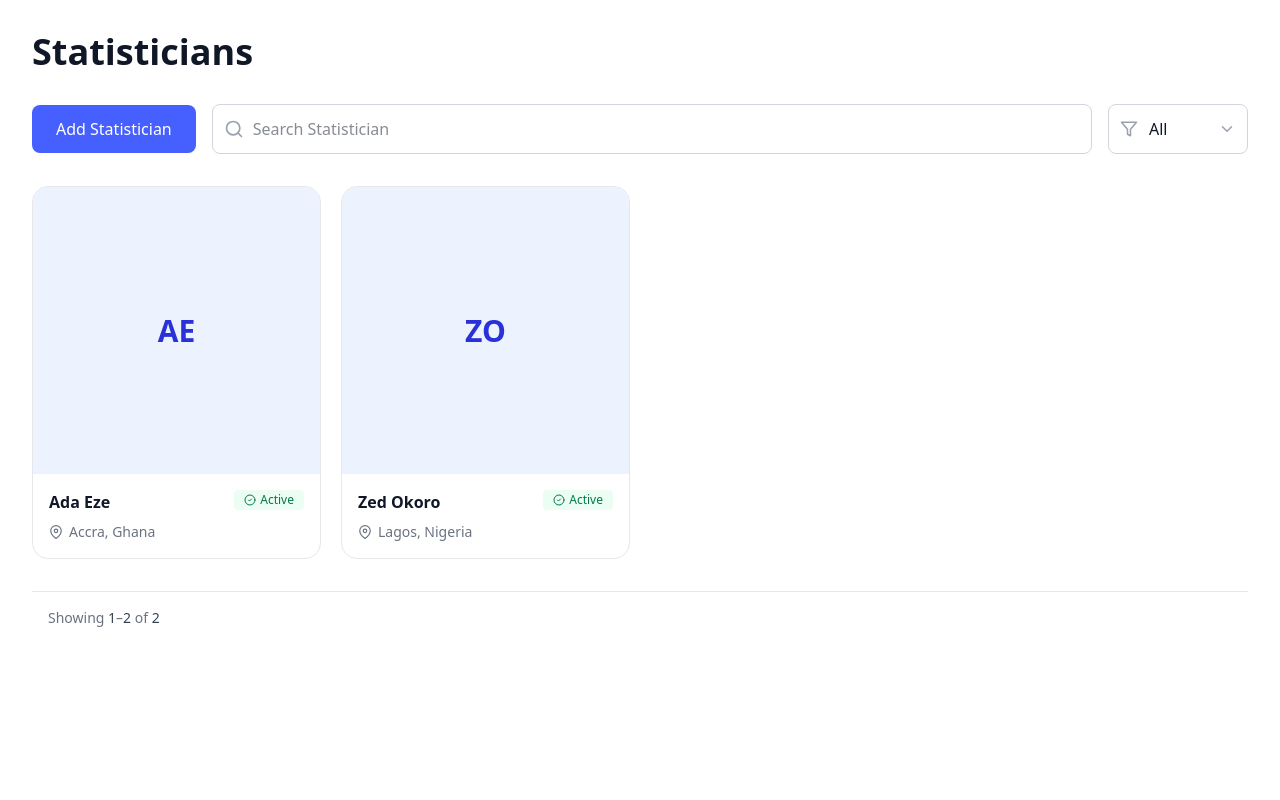
Scenario: Statisticians: list › opens the profile in a modal when a tile is clicked, as the old page did
The image size is (1280, 800).
Step 1. Click the button with aria-label "Open Ada Eze" → (176,372), box [33,187,320,558]
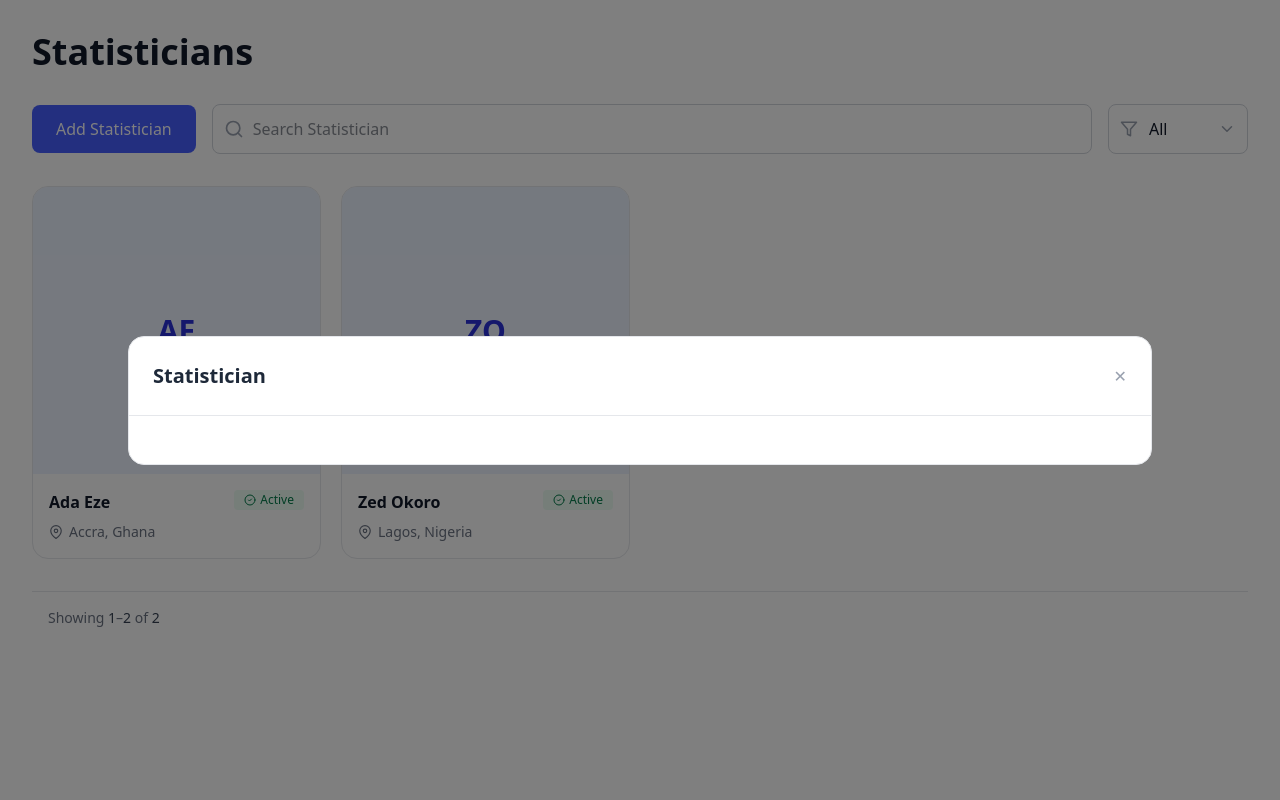
expect the dialog "Statistician" is shown: met, box [128,336,1152,464]
